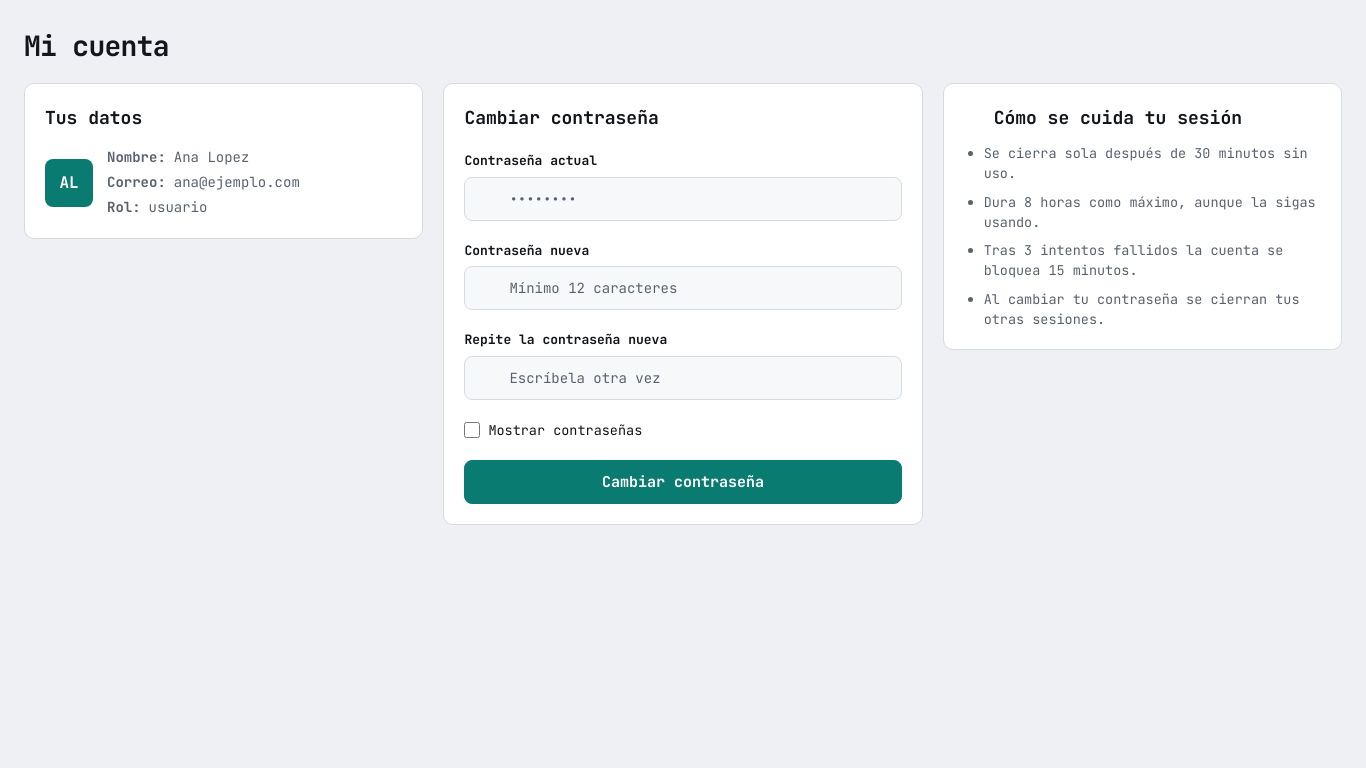
Test case: PaginaMiCuenta › no envía si actual / una-clave-nueva-1 / otra-distinta-123
In the password field labelled "Contraseña actual": (683, 198) [464, 176, 902, 220], type "actual"
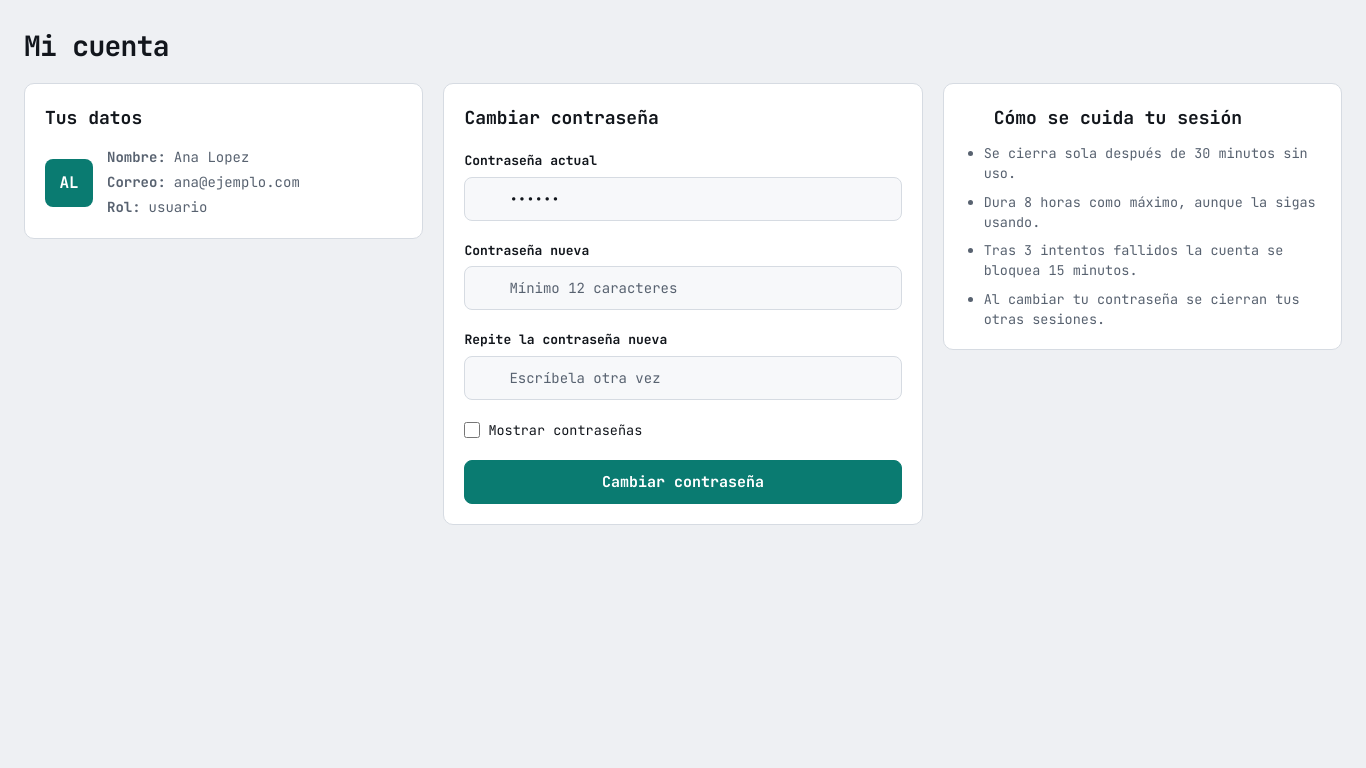
In the password field labelled "Contraseña nueva": (683, 288) [464, 266, 902, 310], type "una-clave-nueva-1"
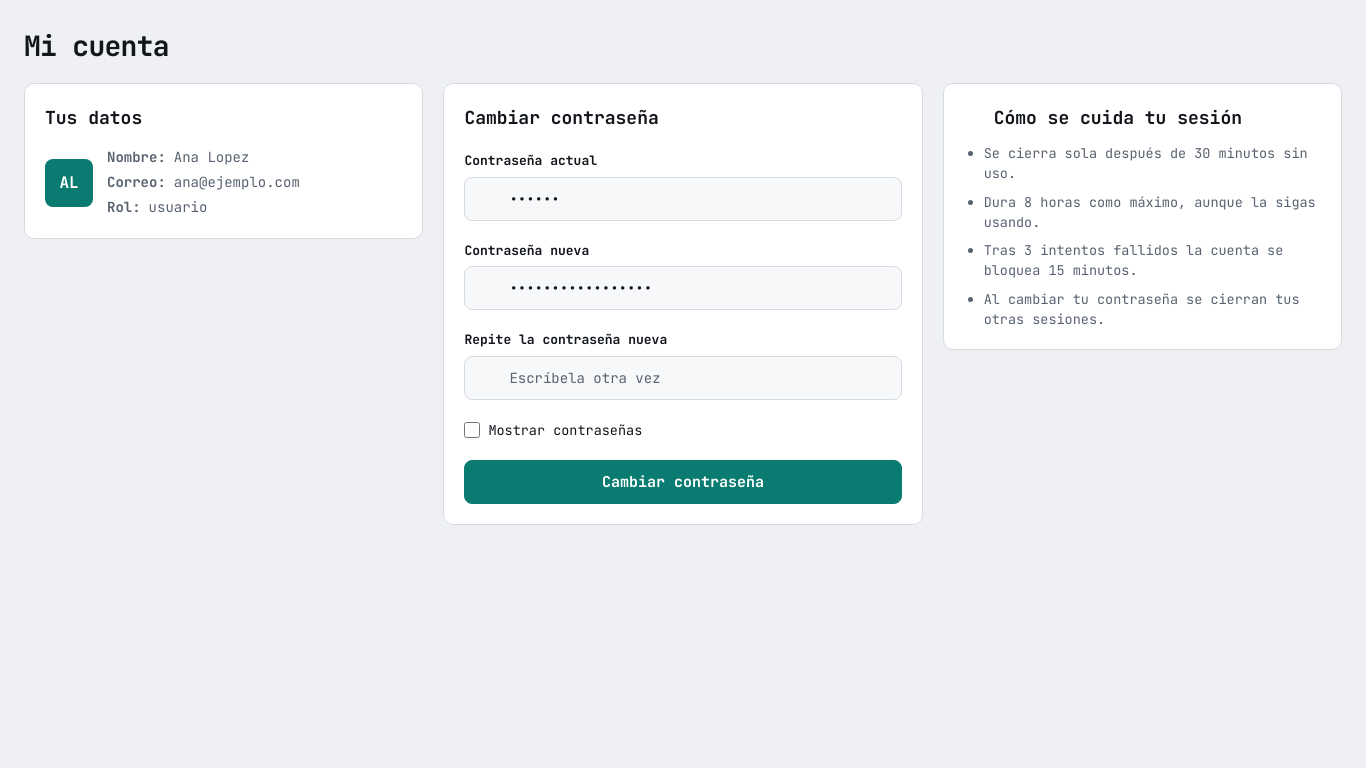
In the password field labelled "Repite la contraseña nueva": (683, 378) [464, 356, 902, 400], type "otra-distinta-123"
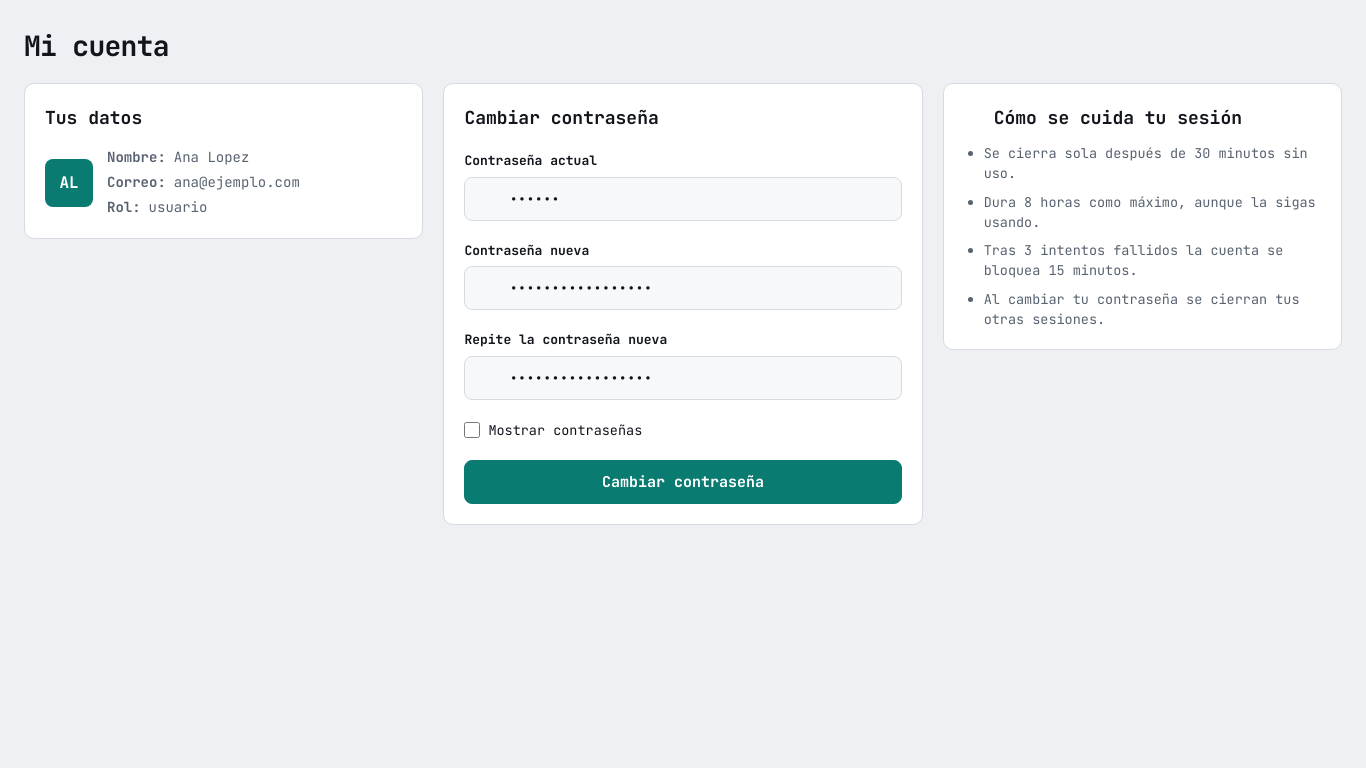
Click the button "Cambiar contraseña": (683, 482) [464, 460, 902, 504]
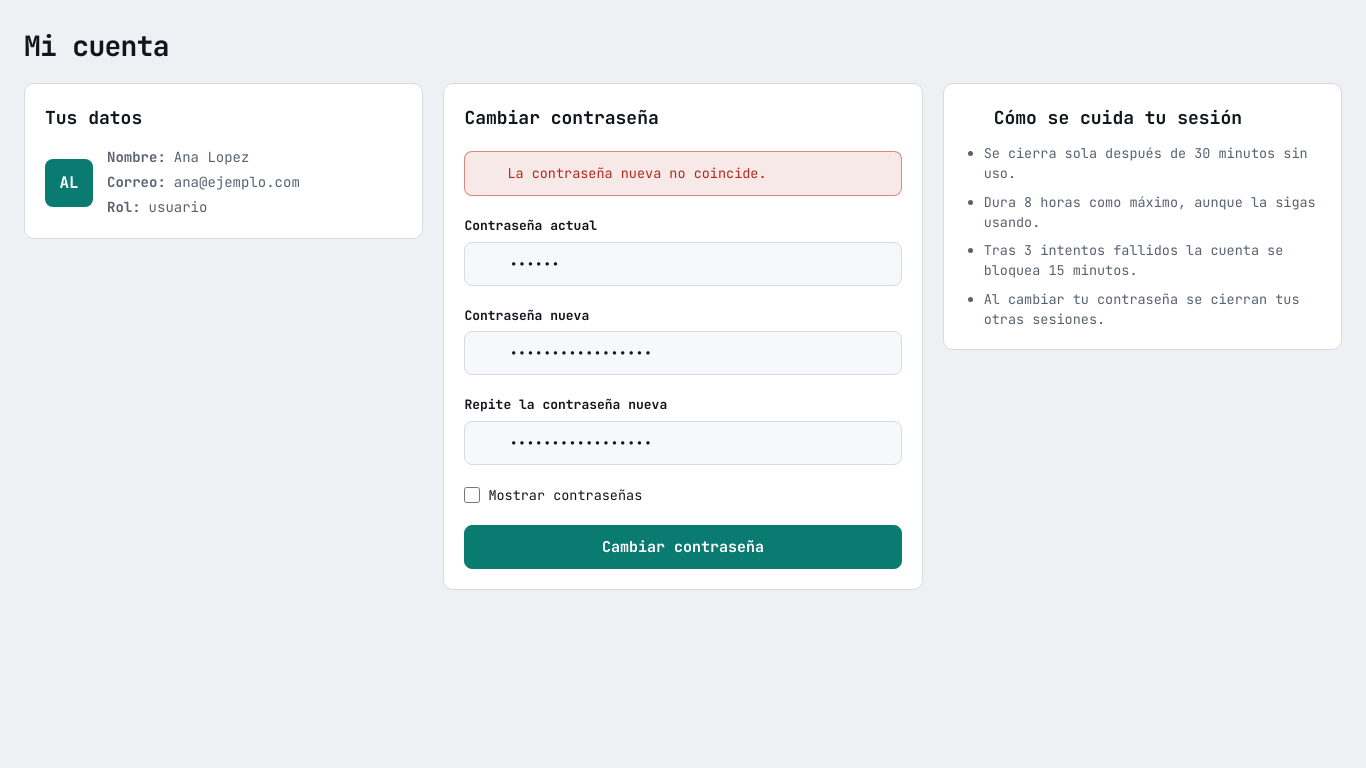
expect the message shows "no coincide": met, box [507, 164, 767, 182]
